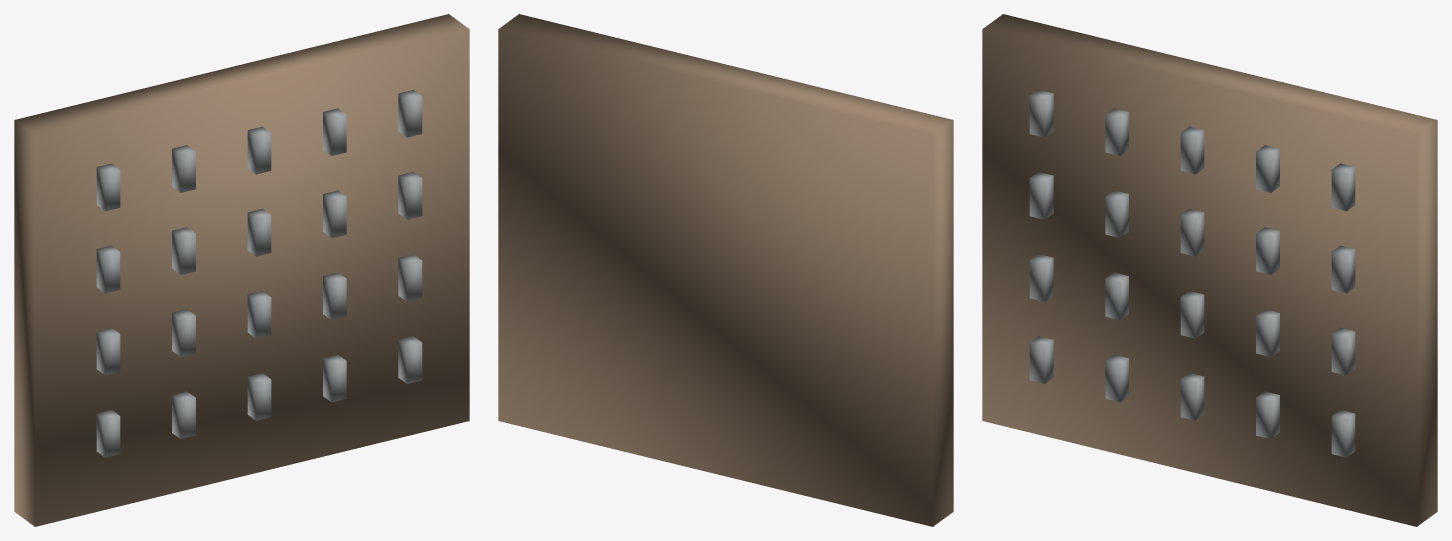
Rendered from key_cubby_rack.glb.
3 renders of one model, left to right at view 1: azimuth 30°, elevation 25°; view 2: azimuth 150°, elevation 25°; view 3: azimuth 330°, elevation 25°, orthographic.
Visible parts, largest first — view 1: world; view 2: world; view 3: world.
Part boxes in pixels (x1,y1,x2,y2): world: [14, 14, 469, 526]; world: [498, 14, 953, 526]; world: [982, 14, 1437, 526].
Bounding box in the file's own units: 0.72 × 0.62 × 0.0925.
